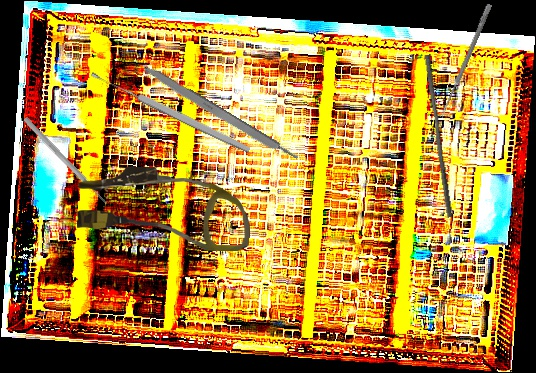Cannula: (76, 165, 251, 252)
Pusher: (21, 116, 110, 206), (418, 54, 460, 218)
Scalpel Handle: (140, 63, 300, 165)
Surgical Spoon: (89, 69, 252, 155), (438, 3, 493, 119)
